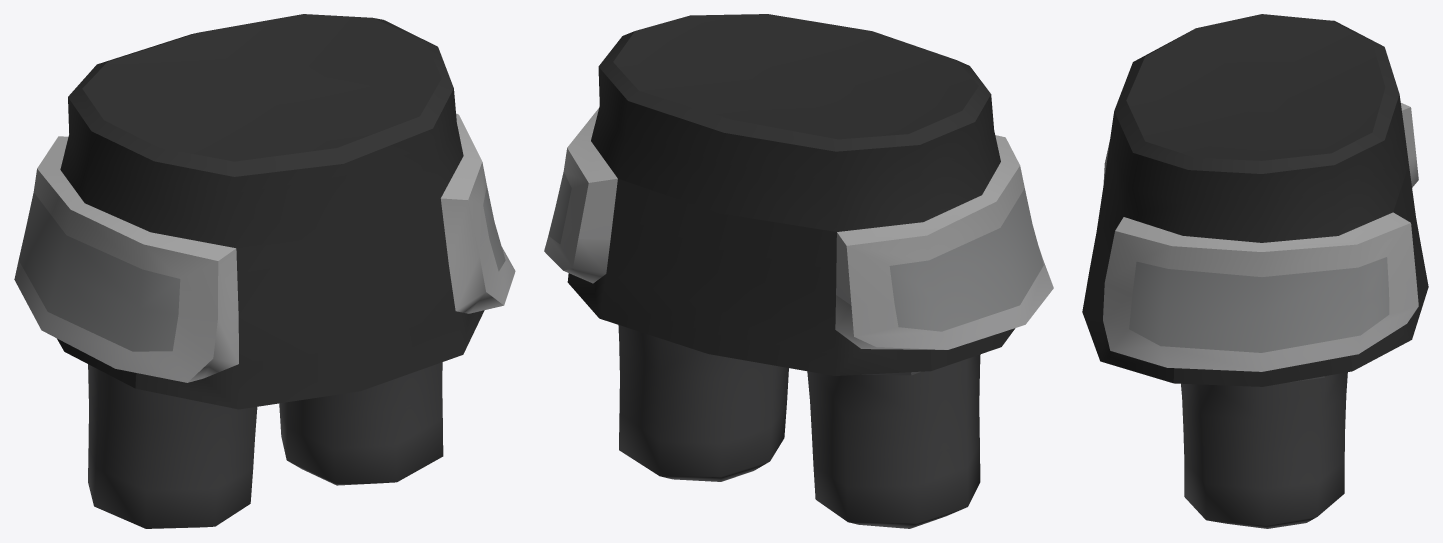
Rendered from Legs_14.fbx.
3 views of the same model, side by side, from view 1: azimuth 30°, elevation 25°; view 2: azimuth 150°, elevation 25°; view 3: azimuth 270°, elevation 25° (orthographic). The views are drawn at different scales.
Parts seen in each view (by area): view 1: Legs_14; view 2: Legs_14; view 3: Legs_14.
Part boxes in pixels (x1,y1,x2,y2): Legs_14: [14, 14, 515, 528]; Legs_14: [544, 14, 1053, 528]; Legs_14: [1082, 14, 1428, 528].
Bounding box in the file's own units: 49.62 × 42.8 × 35.63.
